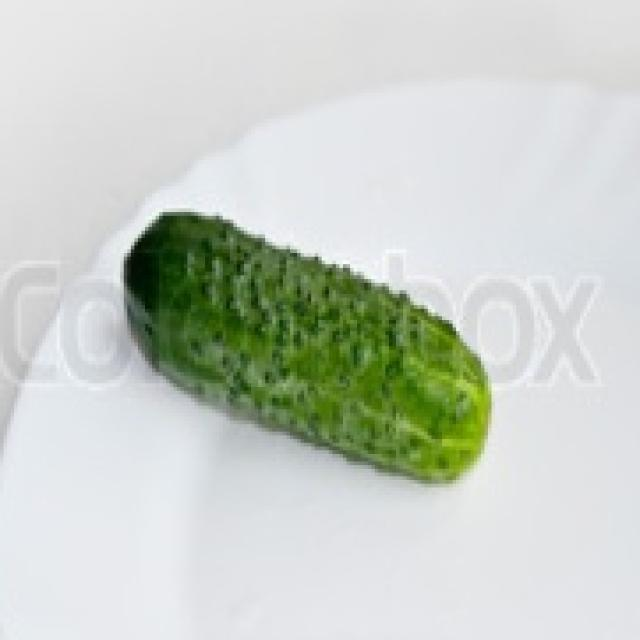cucumber: (117, 208, 488, 484)
